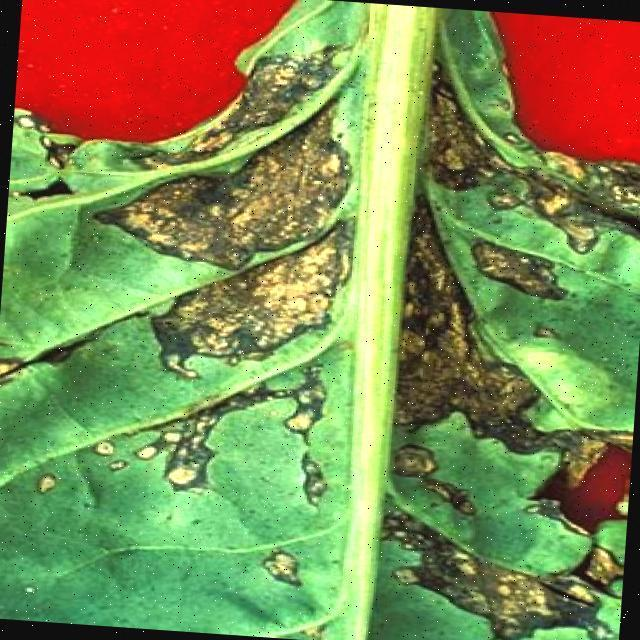Bacterial: (420, 73, 632, 625), (184, 92, 374, 545)
